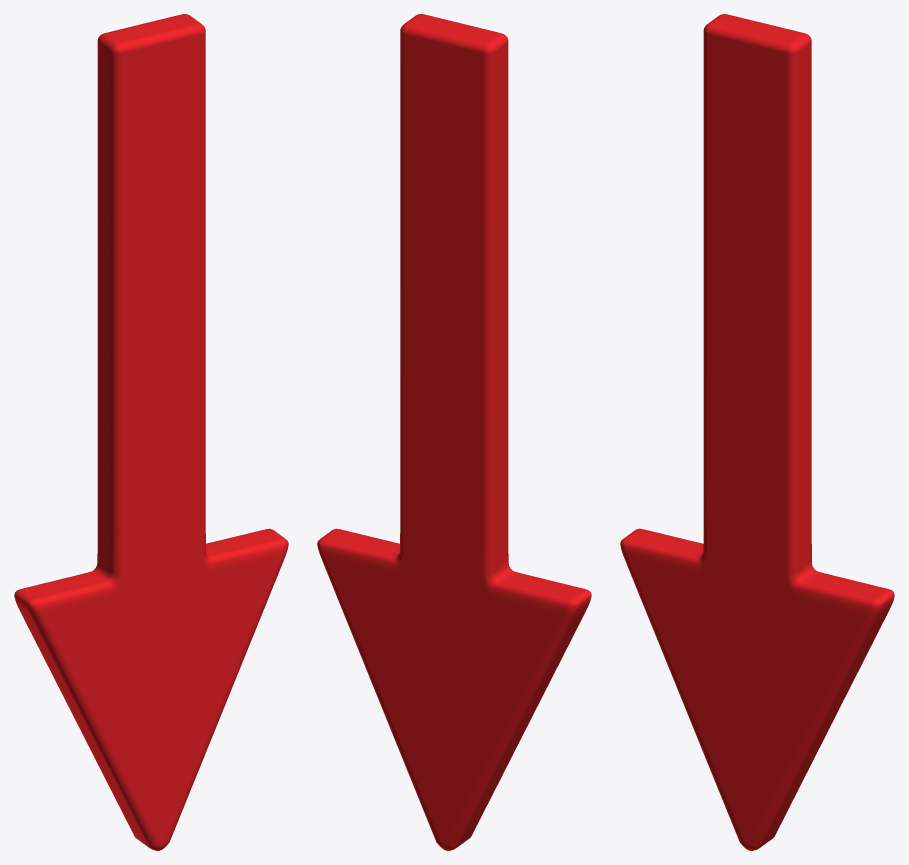
Rendered from arrow.fbx.
The picture shows the model from 3 angles, left to right: view 1: azimuth 30°, elevation 25°; view 2: azimuth 150°, elevation 25°; view 3: azimuth 330°, elevation 25°; orthographic projection.
Visible parts, largest first — view 1: node_id41; view 2: node_id41; view 3: node_id41.
Part boxes in pixels (x1=…): node_id41: x1=14, y1=14, x2=288, y2=850; node_id41: x1=317, y1=14, x2=591, y2=850; node_id41: x1=620, y1=14, x2=894, y2=850.
Bounding box in the file's own units: 0.1708 × 0.512 × 0.024.
1 material, 1 textured.
